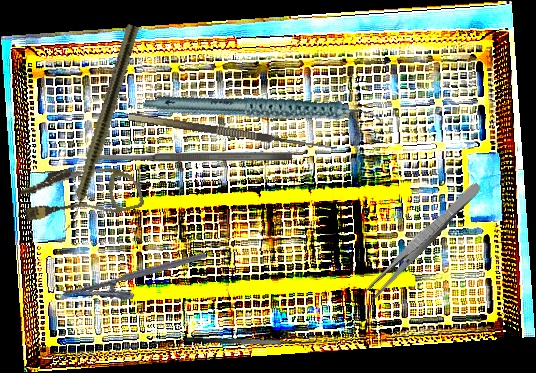Cannula: (17, 152, 145, 235)
Dressing Forceps: (363, 178, 483, 302)
Handpiece: (142, 49, 384, 173), (60, 22, 141, 238)
Hook Surgical: (127, 101, 340, 154)
Needle Holder: (61, 251, 213, 317)
Spatula Surgical: (183, 325, 319, 350), (93, 151, 292, 162)
